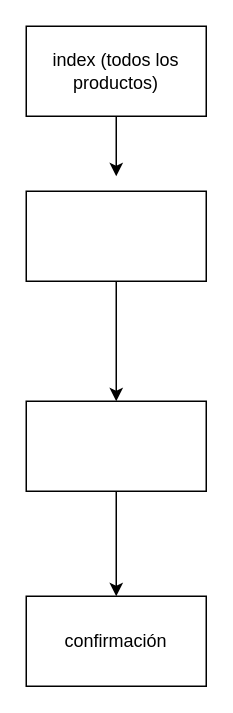
Image size: 233x713. Some labels were removed from this diagram. Each missing label, with the centre of its shape:
detalle de producto: the point at 115,235
pago: the point at 115,445
